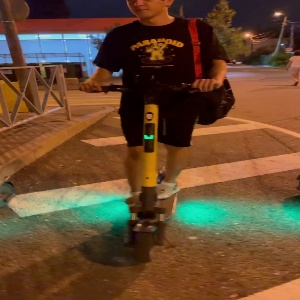human on a scooter: (75, 1, 238, 264)
